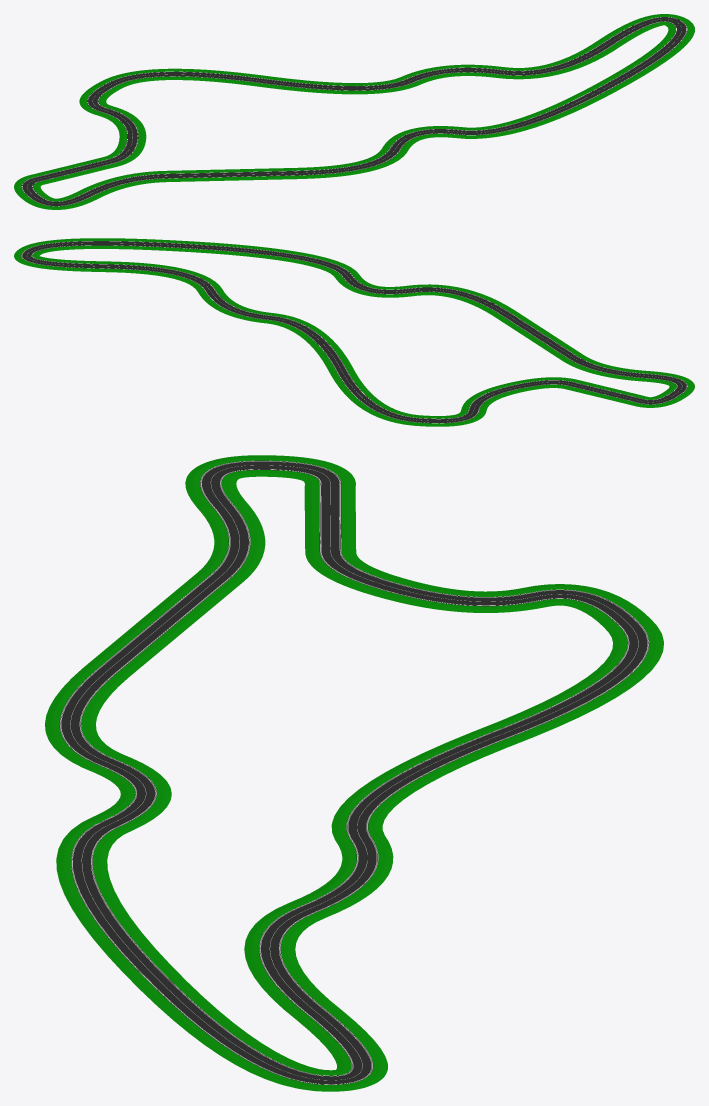
File: Spa.fbx
3 renders of one model, top to bottom at view 1: azimuth 30°, elevation 25°; view 2: azimuth 150°, elevation 25°; view 3: azimuth 270°, elevation 25°, orthographic. The views are drawn at different scales.
Visible parts, largest first — view 1: Track; view 2: Track; view 3: Track.
Part boxes in pixels (left/top/right/bottom): Track: left=14, top=14, right=694, bottom=209; Track: left=14, top=238, right=694, bottom=426; Track: left=45, top=455, right=663, bottom=1091.
Bounding box in the file's own units: 103378 × 66.08 × 42492.
